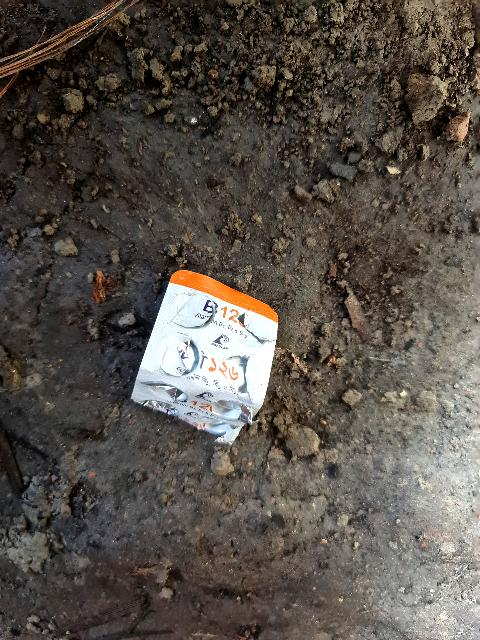medicine: (108, 238, 315, 469)
